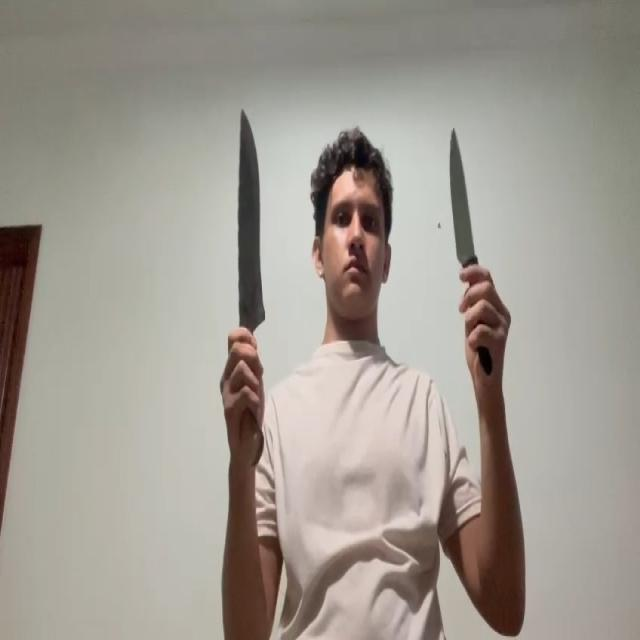knife: (236, 105, 264, 327), (448, 126, 476, 266)
